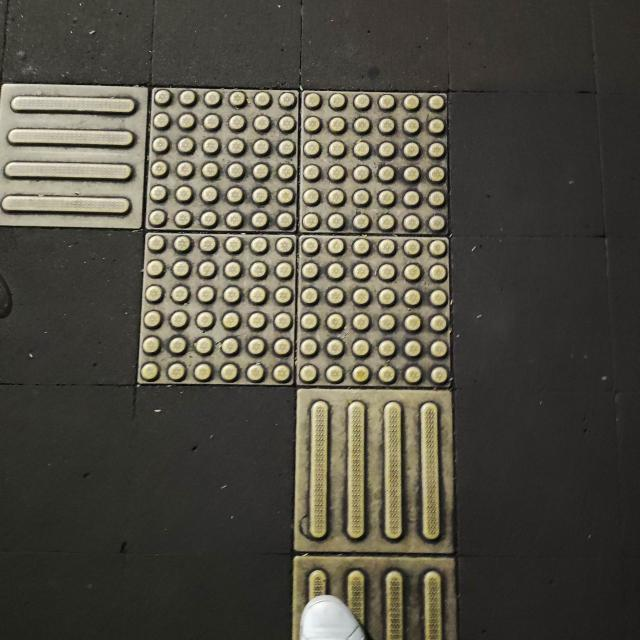kiri: (0, 52, 537, 487)
